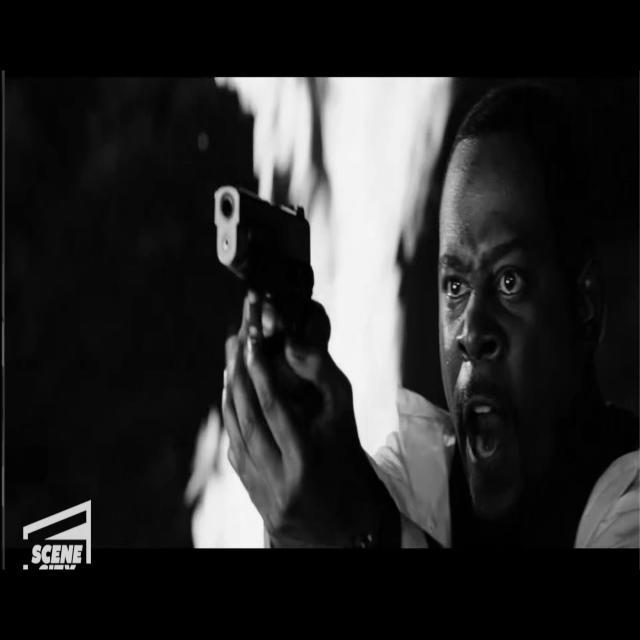weapons: (204, 164, 336, 458)
